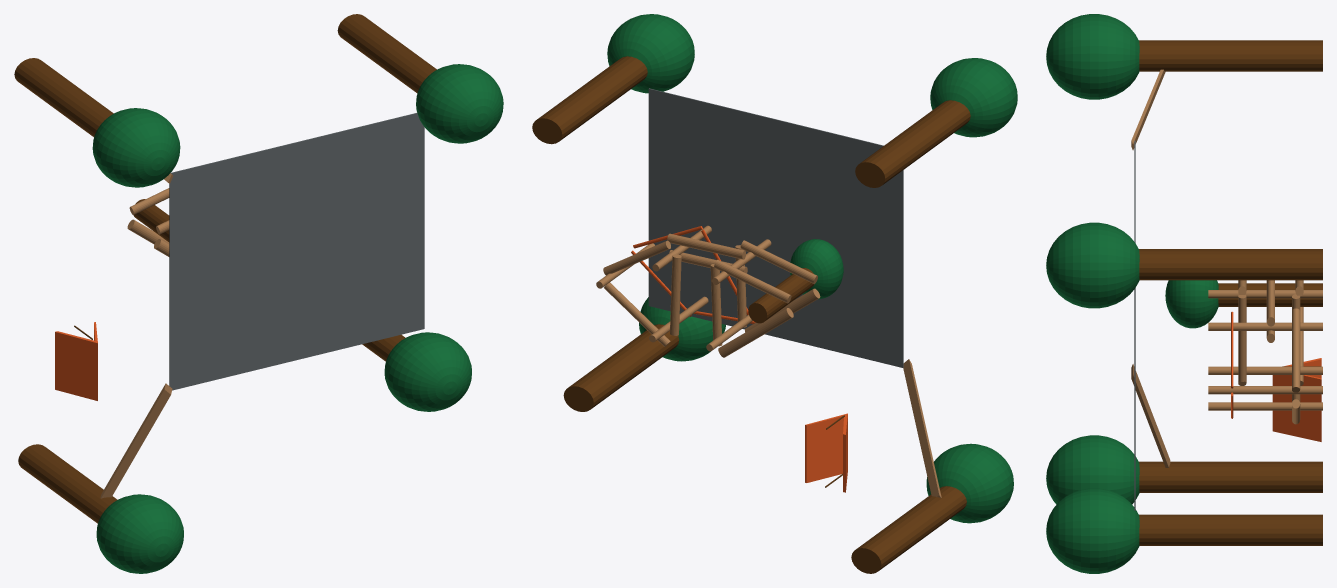
Rendered from tinker.obj.
3 views of the same model, side by side, from view 1: azimuth 30°, elevation 25°; view 2: azimuth 150°, elevation 25°; view 3: azimuth 270°, elevation 25° (orthographic). The views are drawn at different scales.
Parts seen in each view (by area): view 1: group_0_6383466, group_0_1206582, group_0_6306067, group_0_14900002, group_0_11107152; view 2: group_0_6383466, group_0_1206582, group_0_6306067, group_0_11107152, group_0_14900002; view 3: group_0_1206582, group_0_6306067, group_0_11107152, group_0_14900002, group_0_6383466.
Part boxes in pixels (x1,y1,x2,y2): group_0_6383466: (169, 113, 424, 390); group_0_1206582: (92, 64, 503, 573); group_0_6306067: (14, 14, 436, 523); group_0_14900002: (55, 322, 97, 400); group_0_11107152: (100, 173, 173, 498); group_0_6383466: (648, 88, 903, 367); group_0_1206582: (607, 14, 1017, 523); group_0_6306067: (532, 56, 970, 573); group_0_11107152: (596, 225, 941, 497); group_0_14900002: (631, 226, 847, 492); group_0_1206582: (1046, 14, 1218, 573); group_0_6306067: (1139, 40, 1322, 545); group_0_11107152: (1131, 69, 1322, 467); group_0_14900002: (1231, 311, 1321, 441); group_0_6383466: (1134, 140, 1135, 510).
Bounding box in the file's own units: 418 × 458 × 232.
